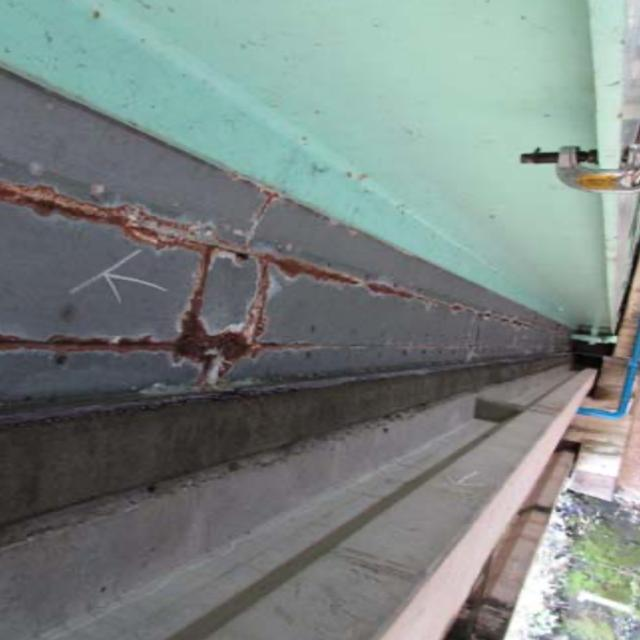corrosion: (11, 163, 426, 388)
